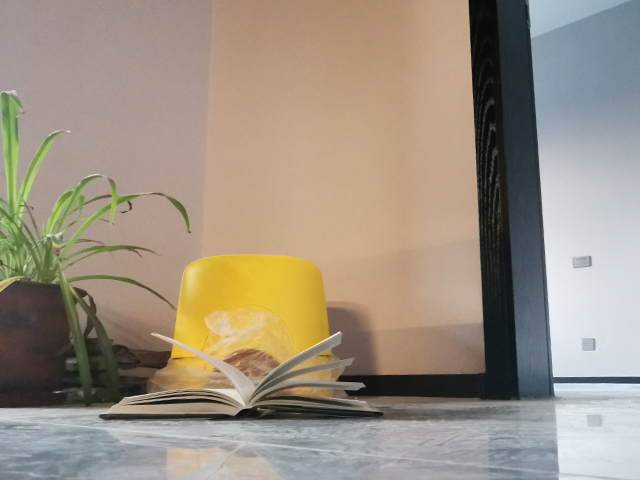book: (96, 329, 385, 423)
stool: (161, 251, 340, 398)
